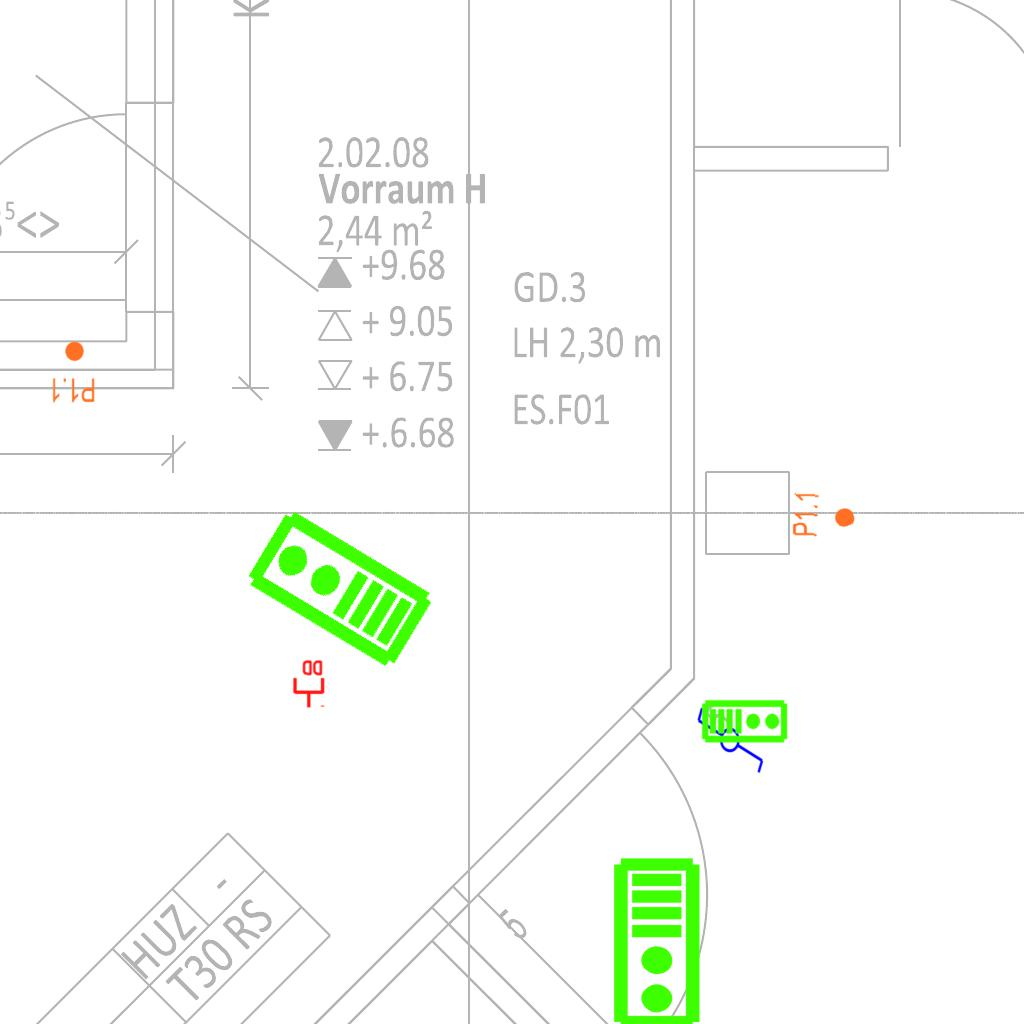Datenanschluss_zweifach: (291, 658, 325, 709)
Downlight_LED_Einbauleuchten_Flur: (790, 490, 858, 540), (50, 340, 96, 404)
Gegensprechanlage_mit_Video: (238, 503, 439, 677), (611, 856, 706, 1024), (701, 697, 789, 744)
Wechselschalter: (695, 697, 767, 775)
